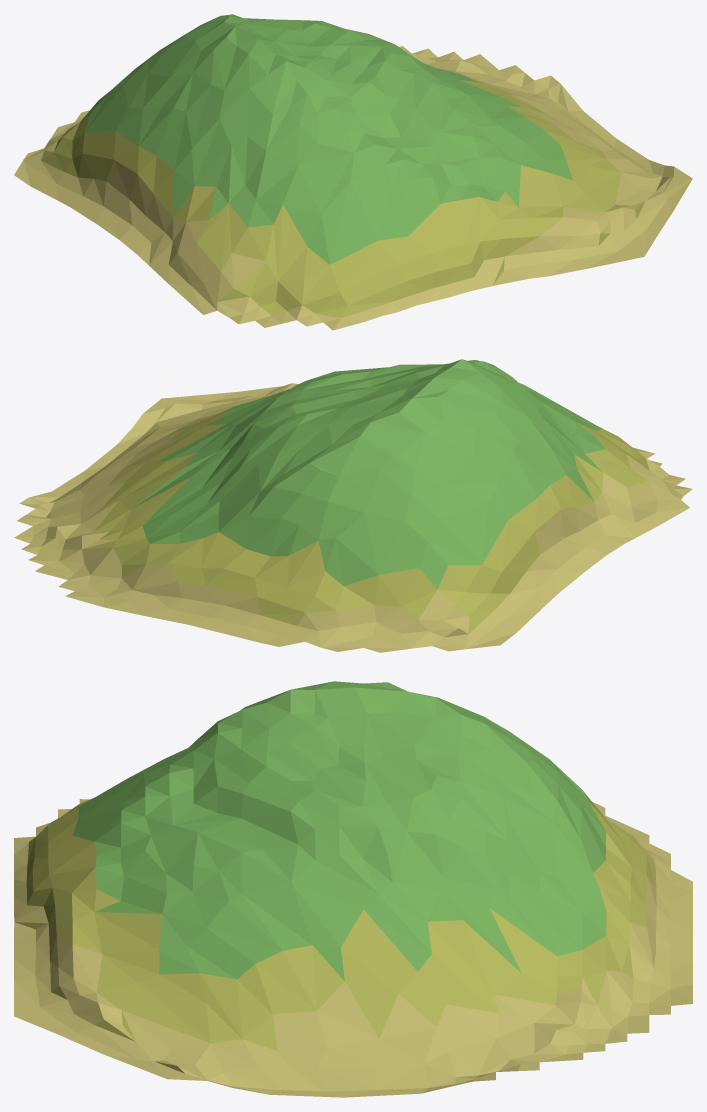
The model's file is Hill2.fbx.
3 views of the same model, one above another, from view 1: azimuth 30°, elevation 25°; view 2: azimuth 150°, elevation 25°; view 3: azimuth 270°, elevation 25° (orthographic). The views are drawn at different scales.
Parts seen in each view (by area): view 1: Hill2; view 2: Hill2; view 3: Hill2.
Boxes of the visible parts, box(x1,y1,x2,y2) form: Hill2: box(14, 14, 692, 330); Hill2: box(14, 359, 692, 652); Hill2: box(14, 681, 692, 1097).
Bounding box in the file's own units: 181 × 61.87 × 181.
